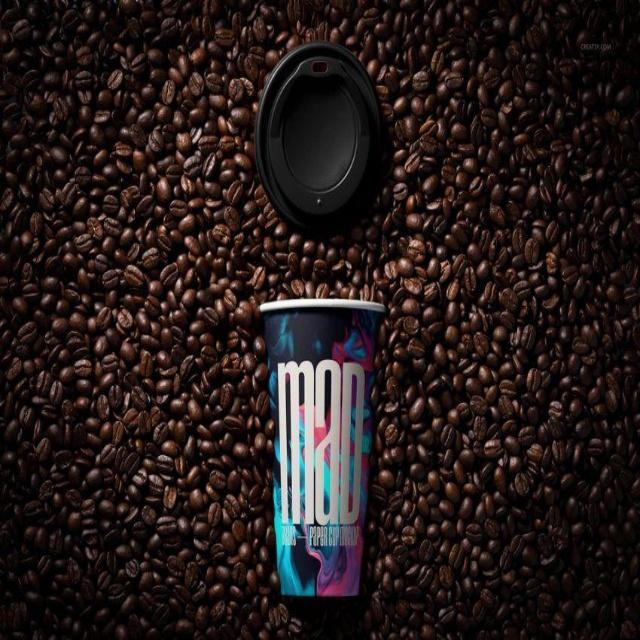paper_cup: (239, 288, 406, 612)
